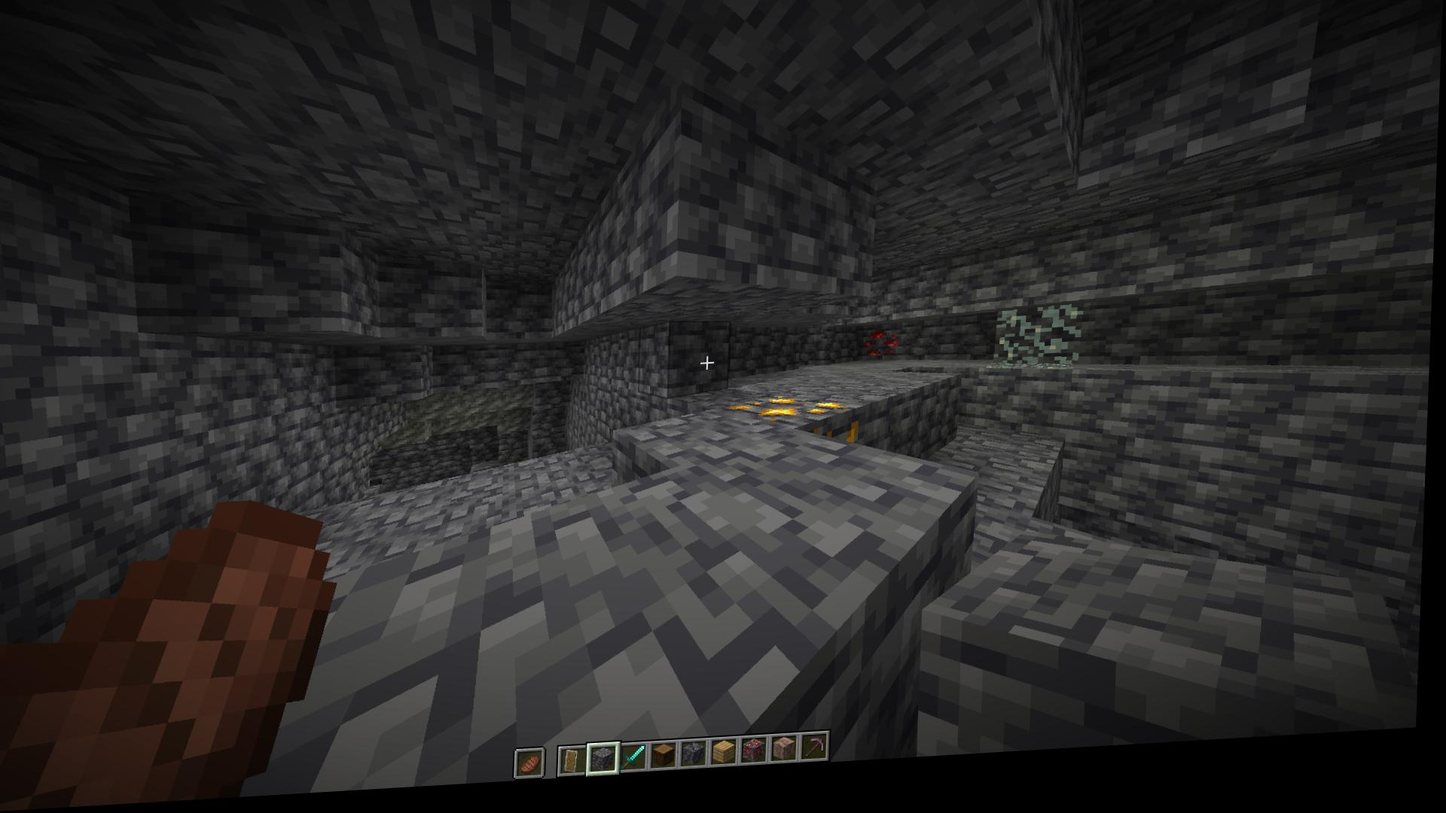gold ore: (729, 400, 853, 435)
redstone ore: (866, 337, 907, 373)
